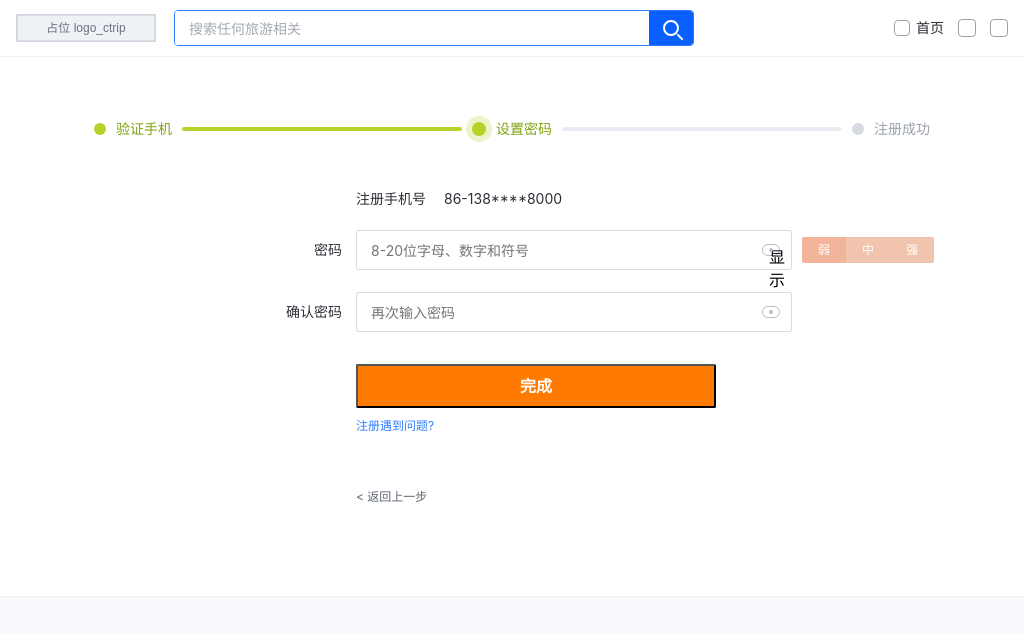
注册模块 - 步骤2 场景用例 › Scenario: 2.1.9 用户输入的两次密码不一致
The width and height of the screenshot is (1024, 634).
Type "weak" into the password field with placeholder "8-20位字母、数字和符号" at (574, 250), box [356, 230, 792, 270]
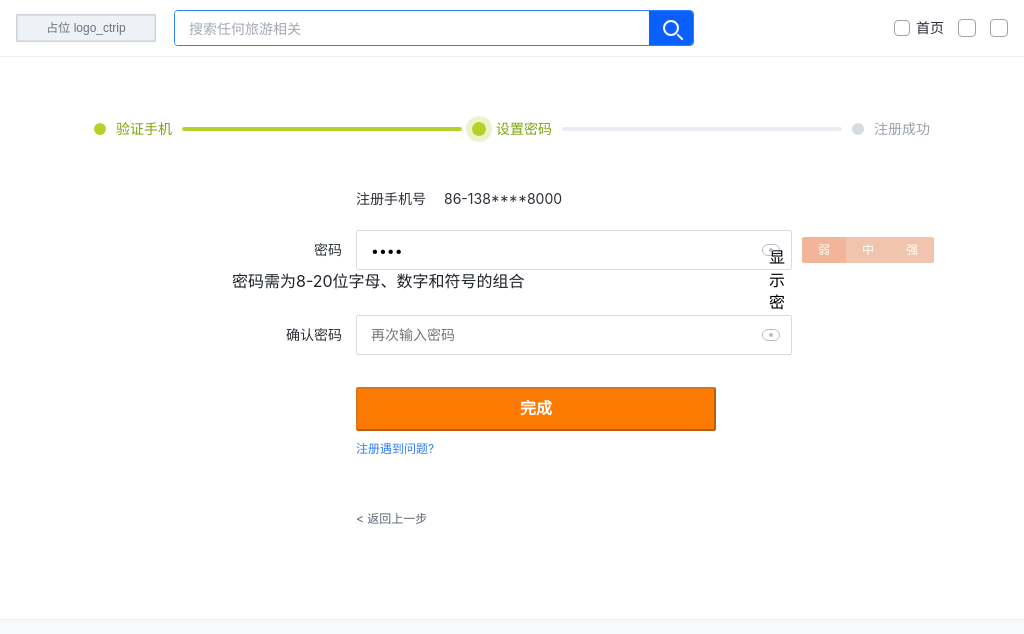
Expected: the text "密码需为8-20位字母、数字和符号的组合" is shown, [232, 271, 525, 291]
Expected: the button "完成" is disabled, [356, 387, 716, 431]
